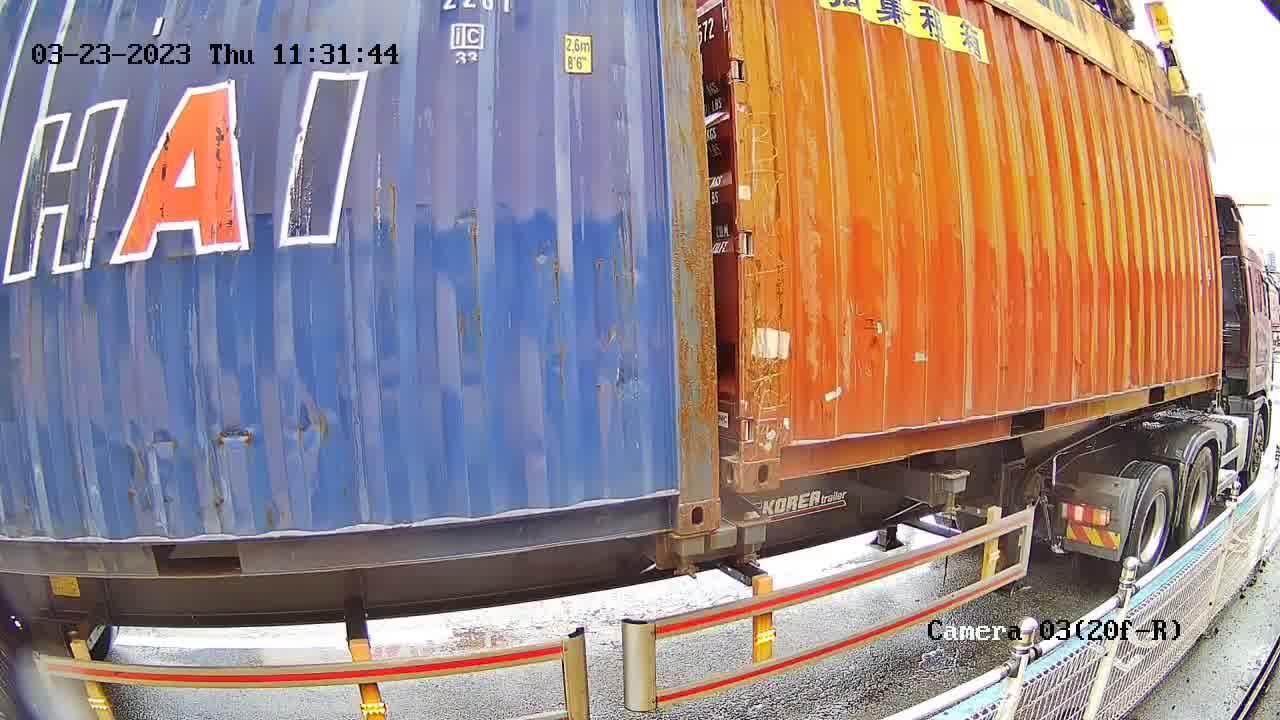Cone: (731, 514, 766, 571), (669, 532, 705, 580)
Hole_L: (740, 414, 818, 492)
Hole_R: (631, 455, 720, 536)
Tire: (1127, 468, 1174, 580), (1183, 449, 1215, 545)
